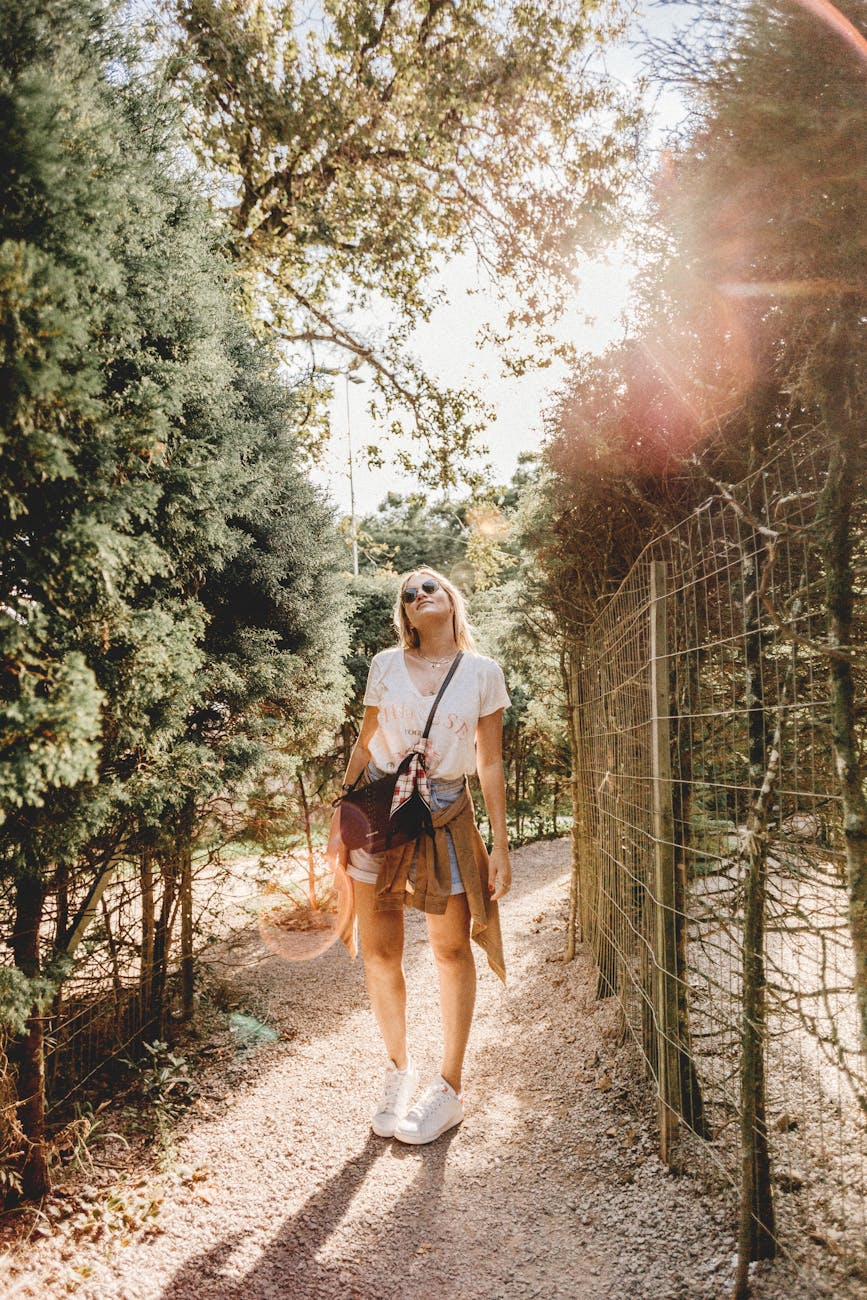shorts: (335, 799, 496, 914)
